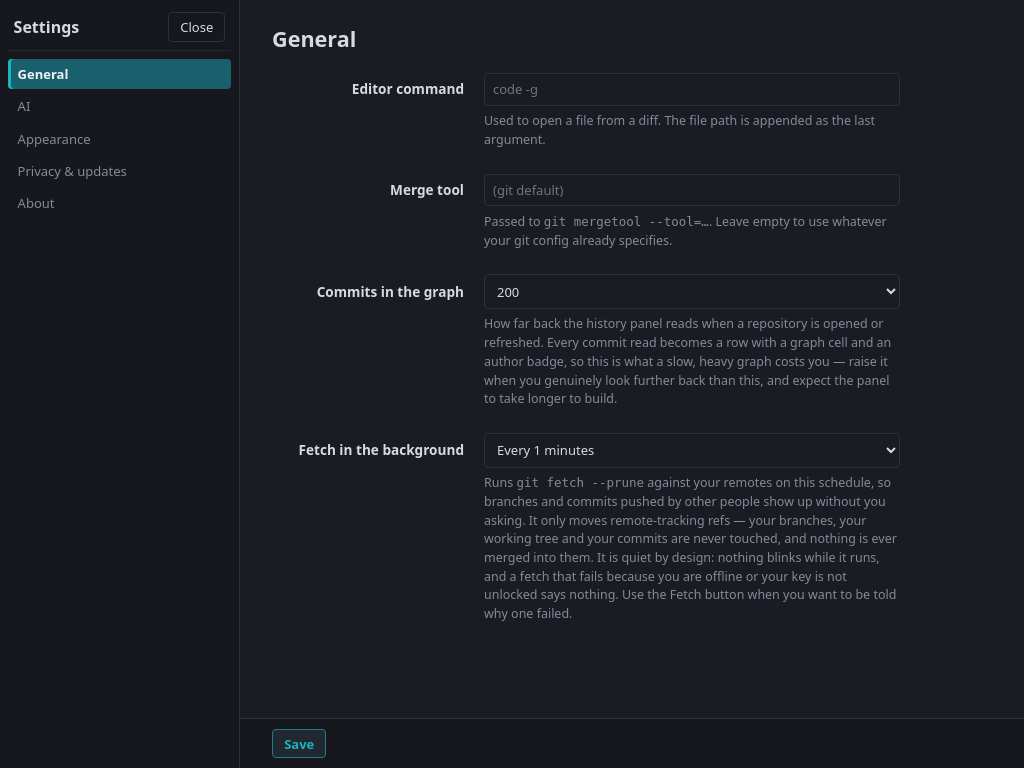
Test case: SettingsView › saves an edited field to disk and to the store
Type "subl" into the field labelled "Editor command" at (692, 89), box [484,73,900,106]
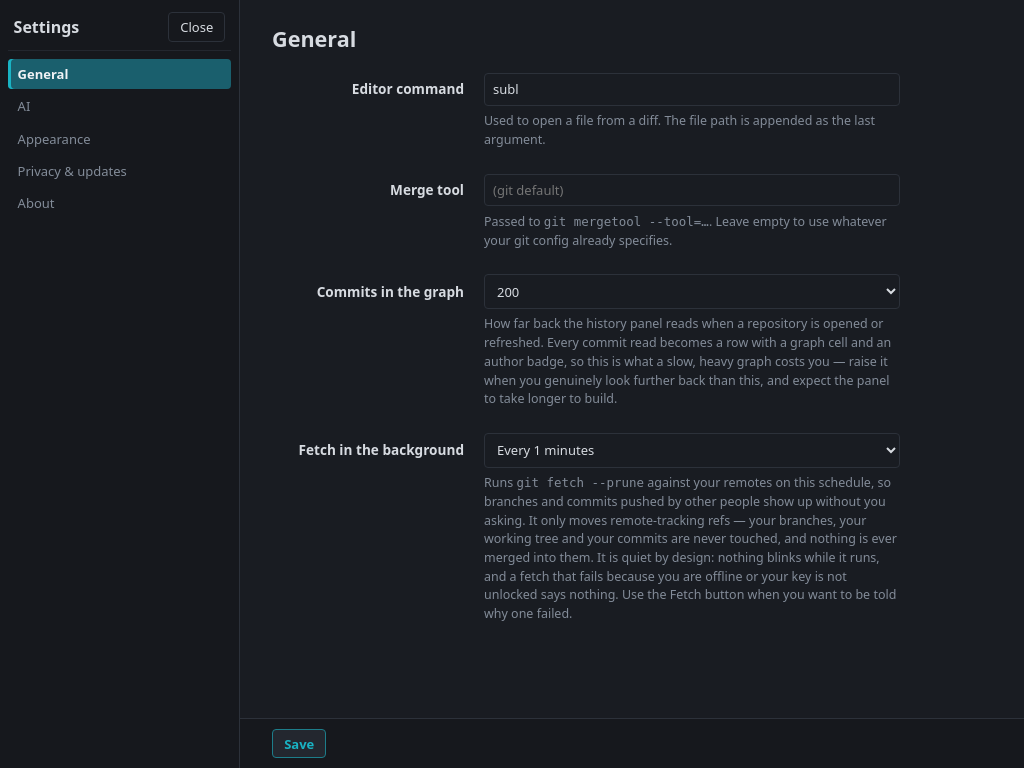
Click the button "Save" at (299, 744), box [272,729,326,758]
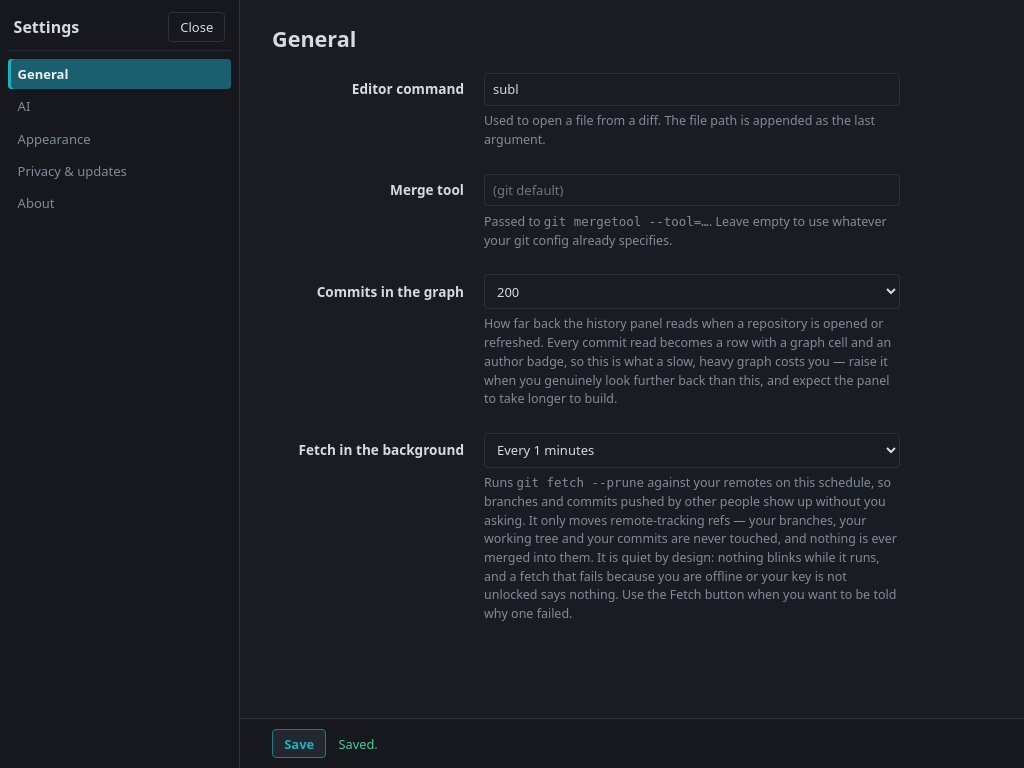
Expected: the text "Saved." is shown, [338,735,378,753]
